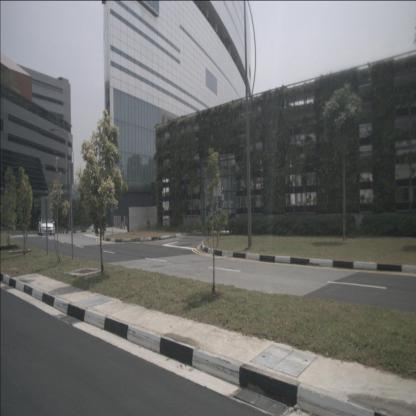vehicle-car: (38, 217, 55, 236)
